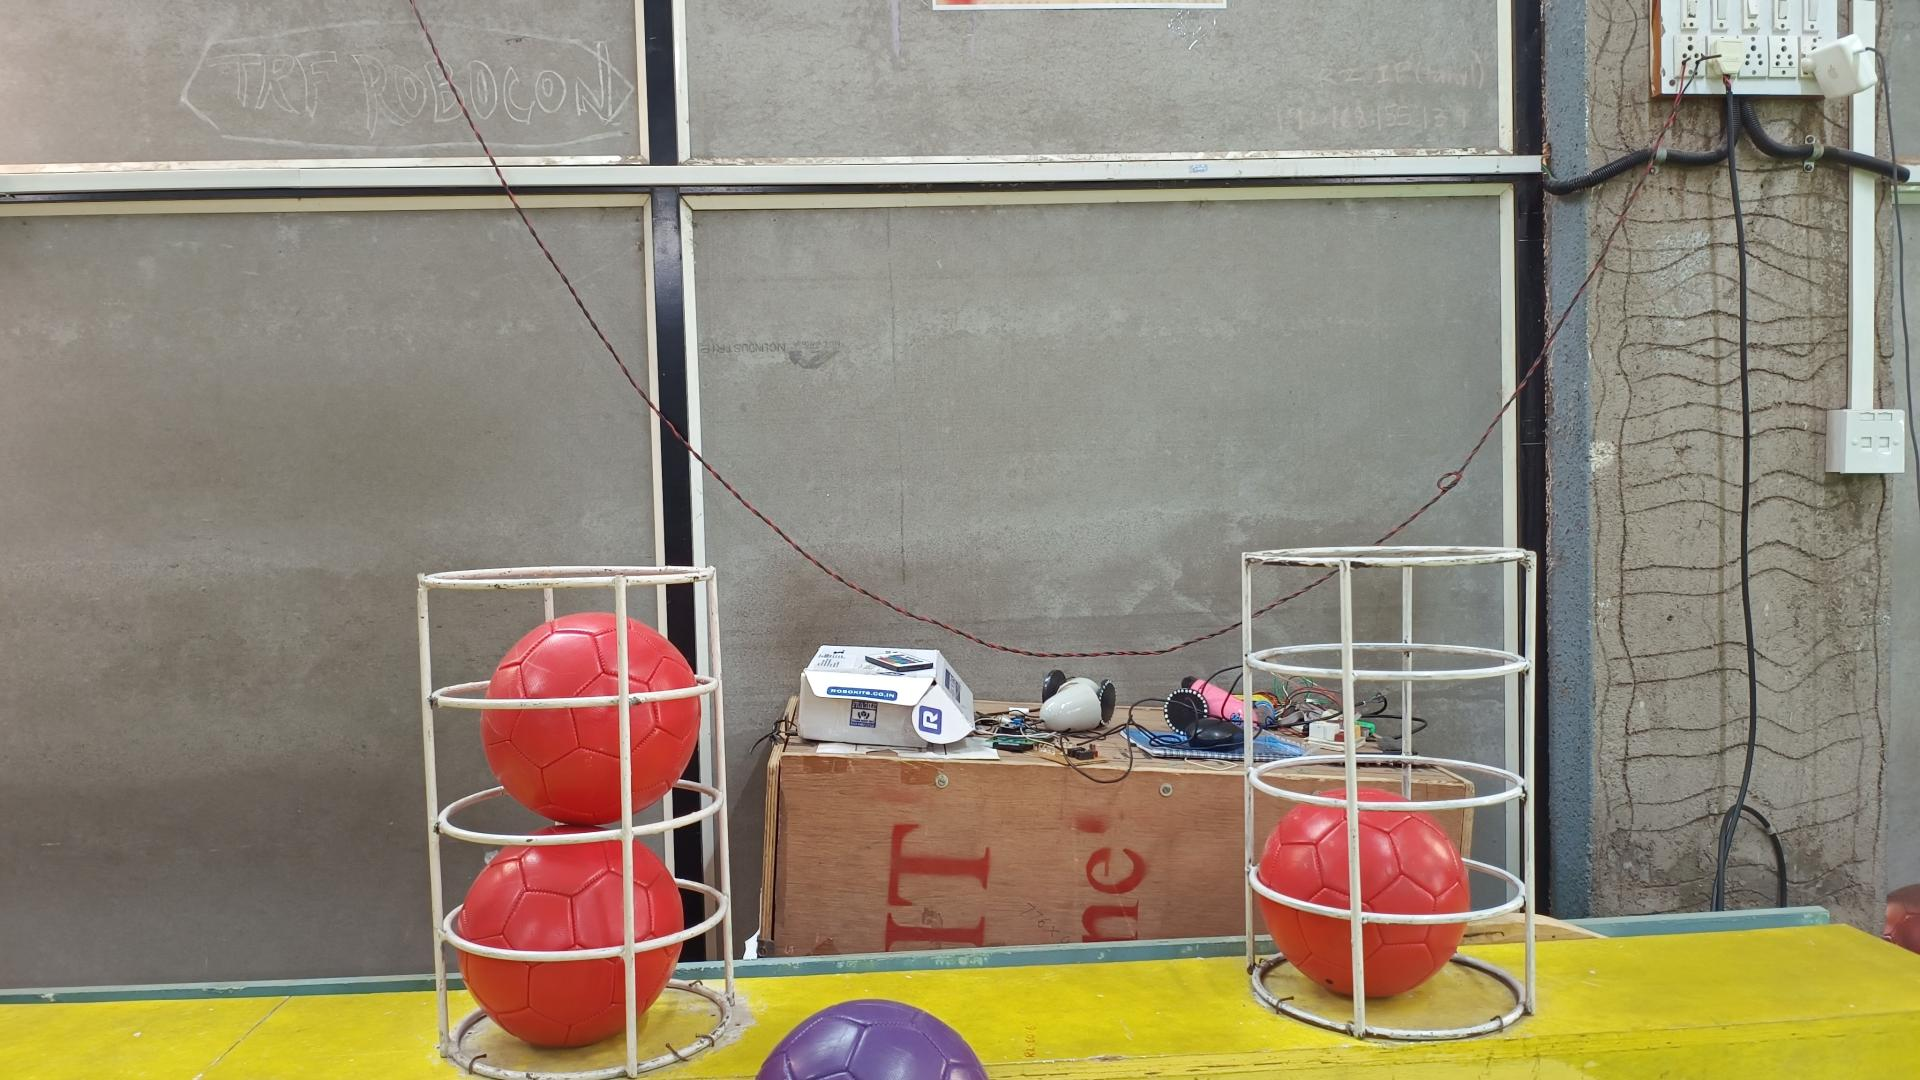laale: (454, 825, 686, 1050), (480, 612, 702, 828), (1257, 783, 1470, 997)
